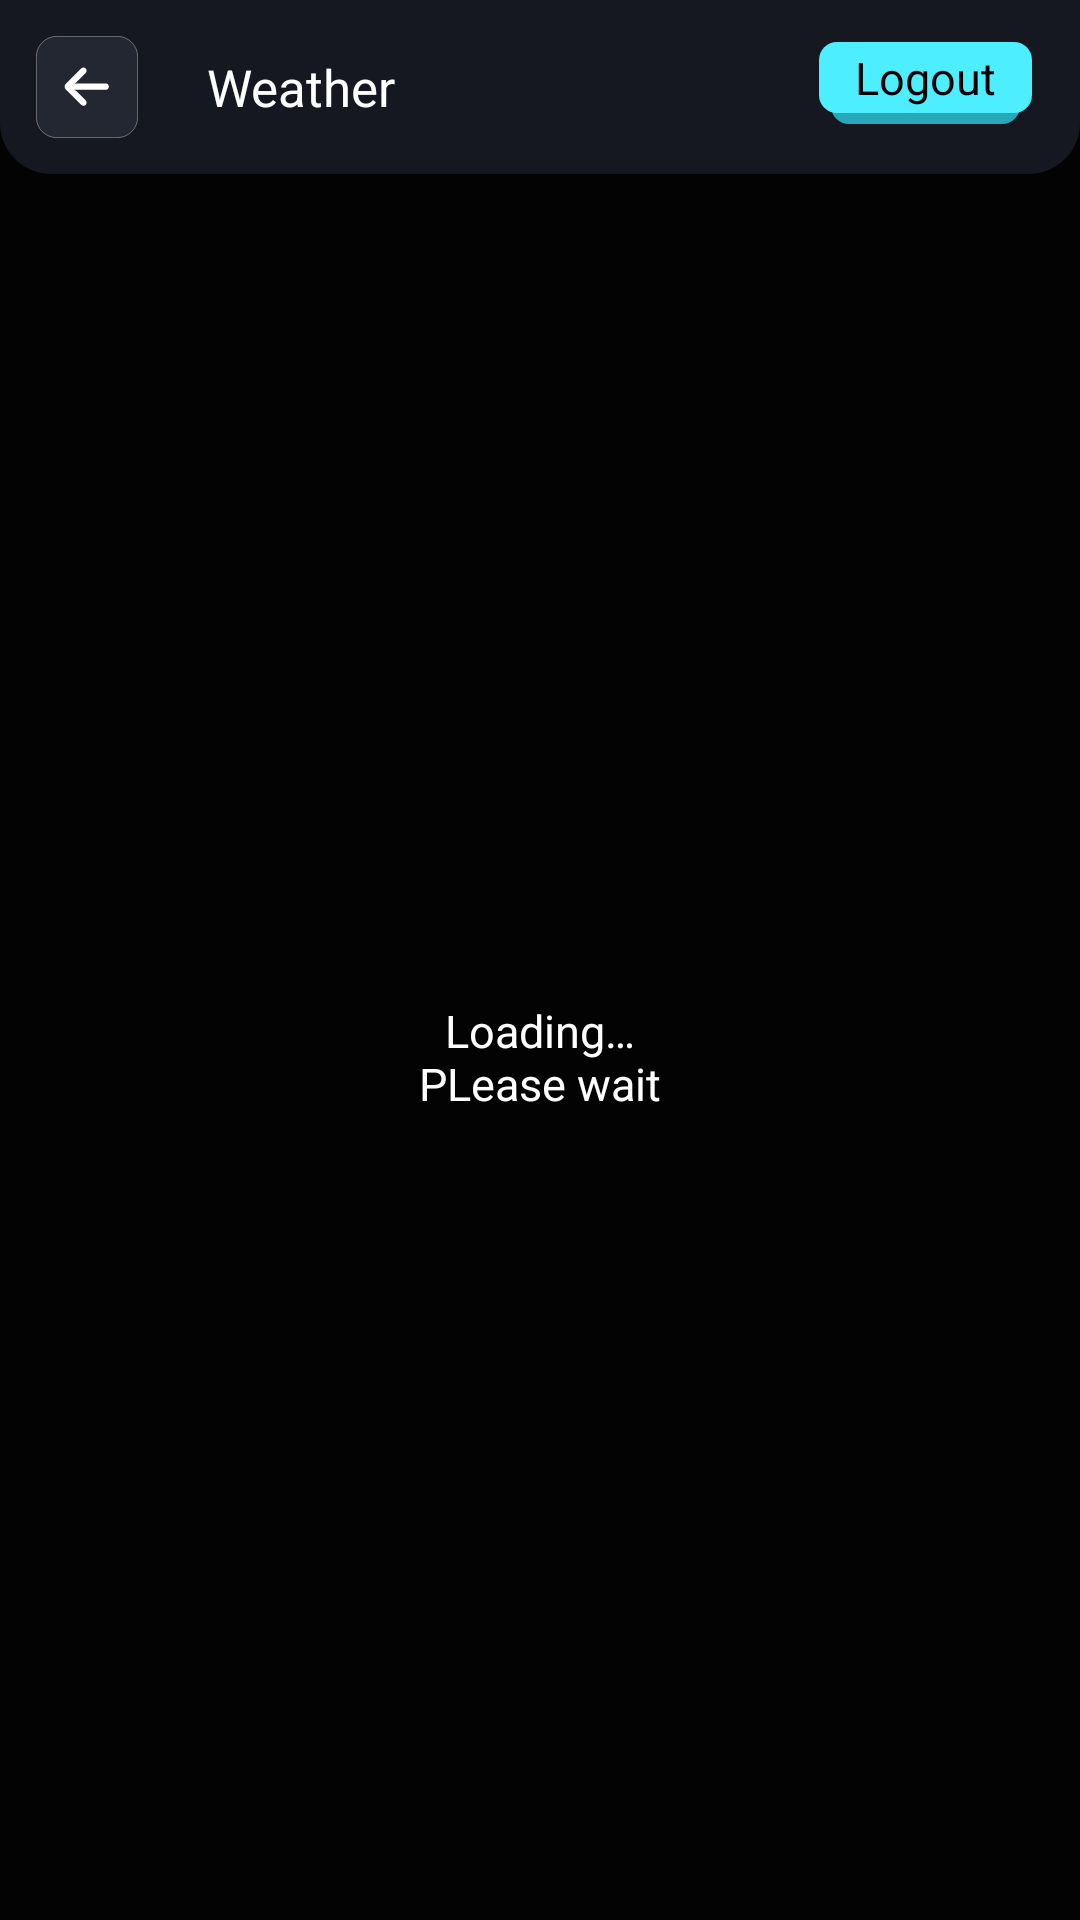

Named icons in this screenshot (1080x1920) and their centers, [x,y]:
back: [87,87]
